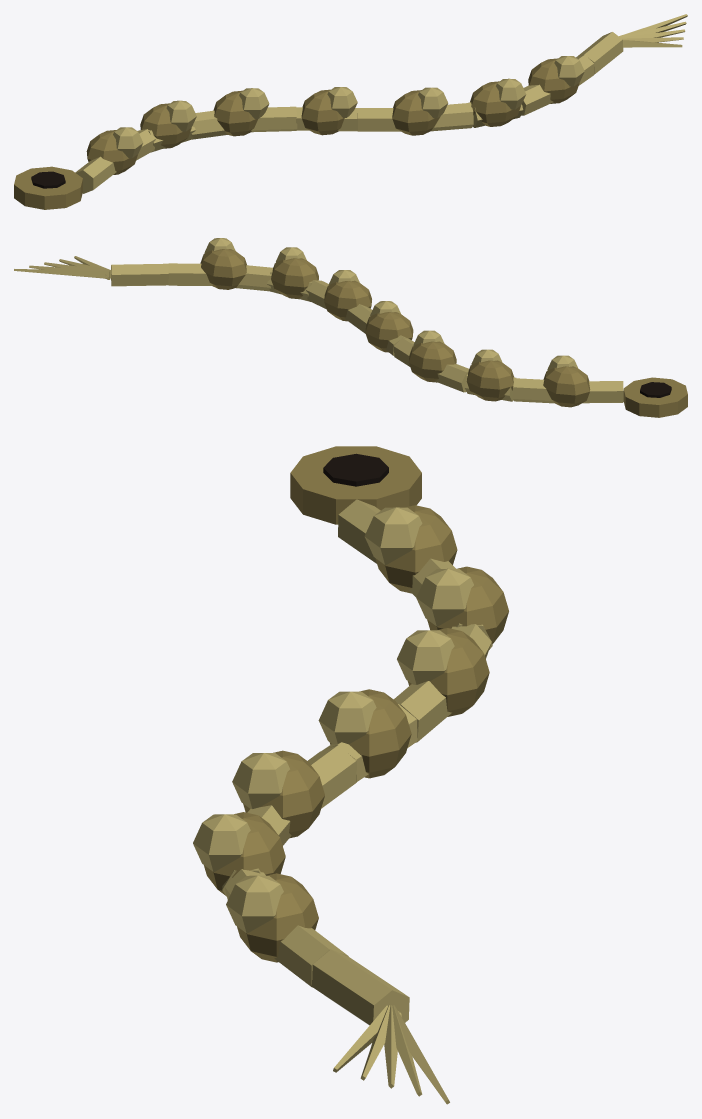
The model's file is prop_closeup_rope7.glb.
3 renders of one model, top to bottom at view 1: azimuth 30°, elevation 25°; view 2: azimuth 150°, elevation 25°; view 3: azimuth 270°, elevation 25°, orthographic. The views are drawn at different scales.
Parts seen in each view (by area): view 1: prop_closeup_rope7; view 2: prop_closeup_rope7; view 3: prop_closeup_rope7.
Boxes of the visible parts, bbox=[...] form: prop_closeup_rope7: bbox=[14, 14, 687, 209]; prop_closeup_rope7: bbox=[14, 238, 687, 417]; prop_closeup_rope7: bbox=[193, 446, 508, 1104].
Size of the model in its own units: 1.59 by 0.104 by 0.3366.
